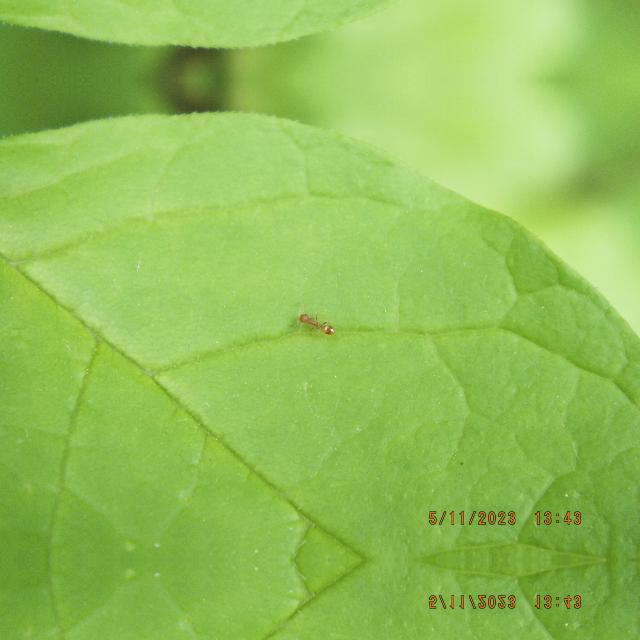Temnothorax: (293, 307, 339, 337)
